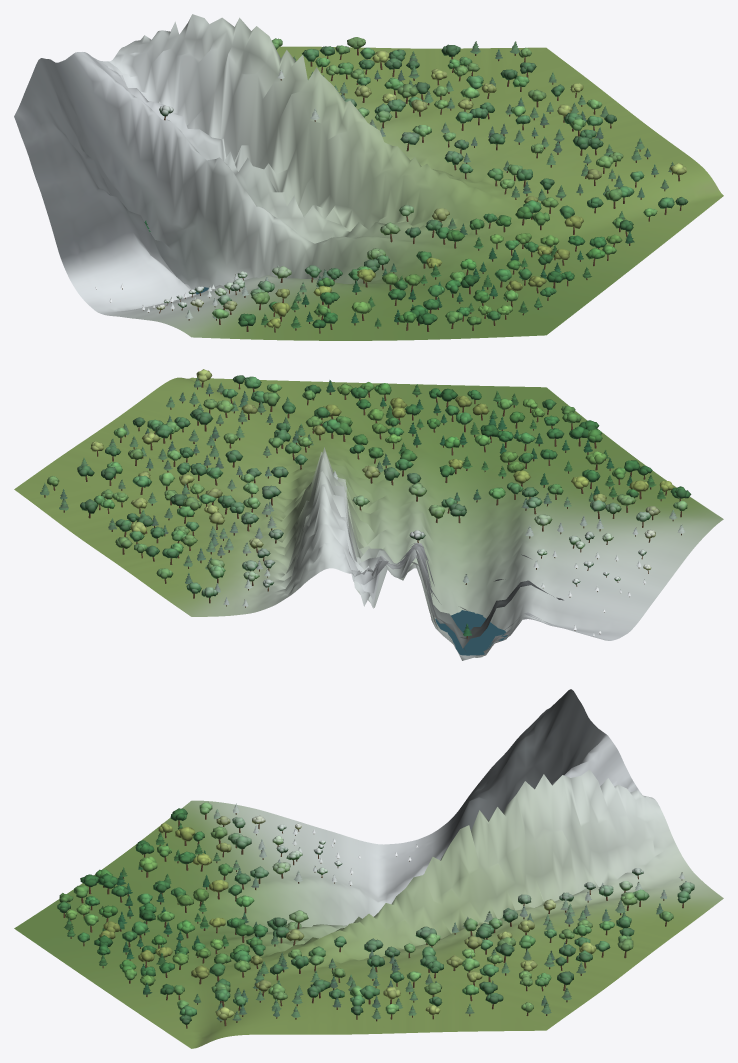
3 renders of one model, top to bottom at view 1: azimuth 30°, elevation 25°; view 2: azimuth 150°, elevation 25°; view 3: azimuth 270°, elevation 25°, orthographic.
Visible parts, largest first — view 1: terrain, broadleaf_canopy, conifer_canopy, trunks; view 2: terrain, broadleaf_canopy, conifer_canopy, trunks, sea_level_0; view 3: terrain, broadleaf_canopy, conifer_canopy, trunks.
Boxes of the visible parts, bbox=[...] form: terrain: bbox=[14, 14, 723, 340]; broadleaf_canopy: bbox=[156, 37, 688, 328]; conifer_canopy: bbox=[95, 41, 673, 328]; trunks: bbox=[96, 48, 681, 333]; terrain: bbox=[14, 377, 723, 660]; broadleaf_canopy: bbox=[47, 369, 691, 597]; conifer_canopy: bbox=[40, 377, 685, 636]; trunks: bbox=[44, 382, 681, 638]; sea_level_0: bbox=[435, 610, 507, 655]; terrain: bbox=[14, 689, 723, 1048]; broadleaf_canopy: bbox=[57, 802, 694, 1024]; conifer_canopy: bbox=[64, 803, 686, 1020]; trunks: bbox=[63, 813, 683, 1028].
Size of the model in its own units: 4330 by 1887 by 5000.
6 materials, 1 textured.
